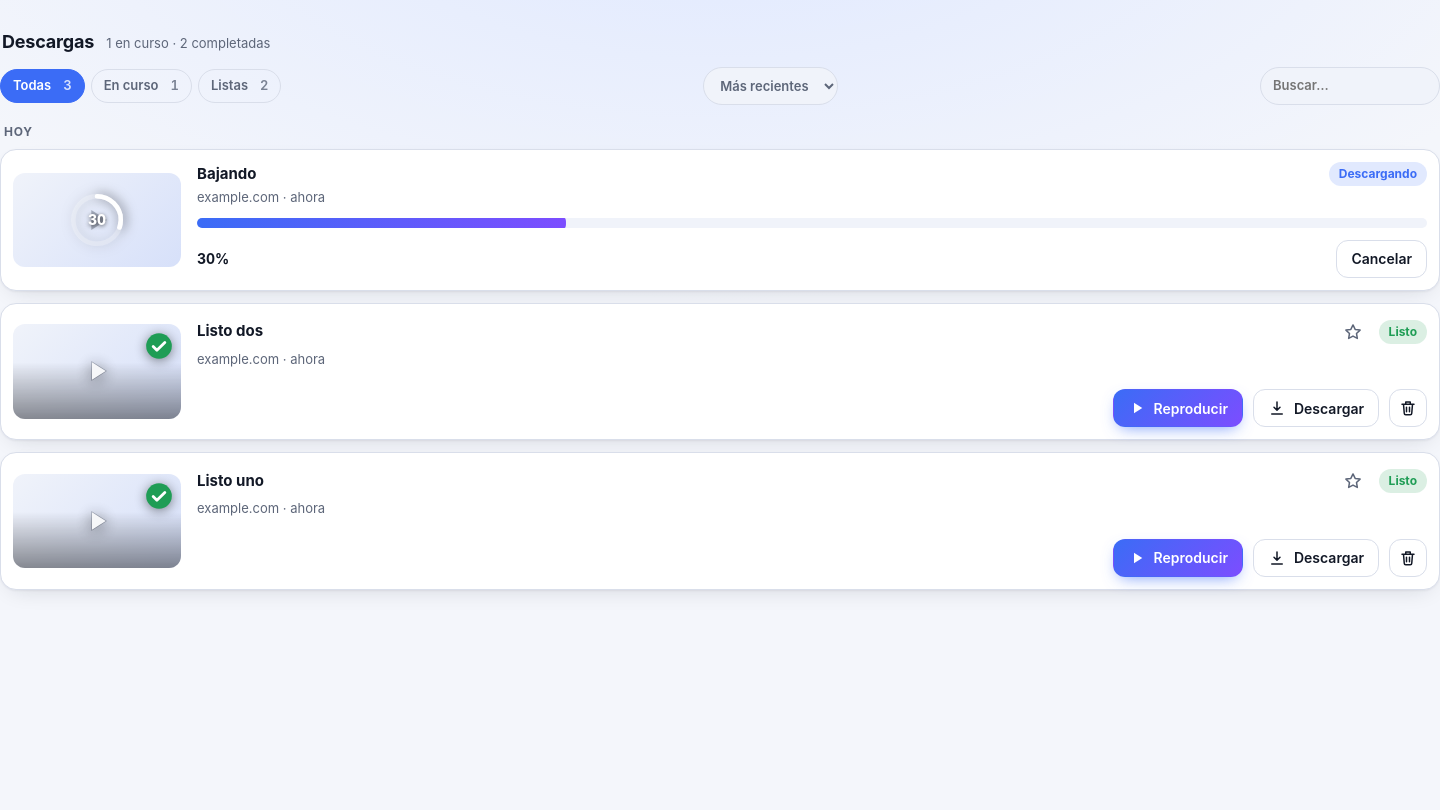
Test: JobList: carrusel de terminados por día › en escritorio, Reproducir sigue abriendo la vista previa en la tarjeta
This screenshot has width=1440, height=810.
Step 1. Click the 1st button "Reproducir" → (1178,408), box [1112,389,1243,427]
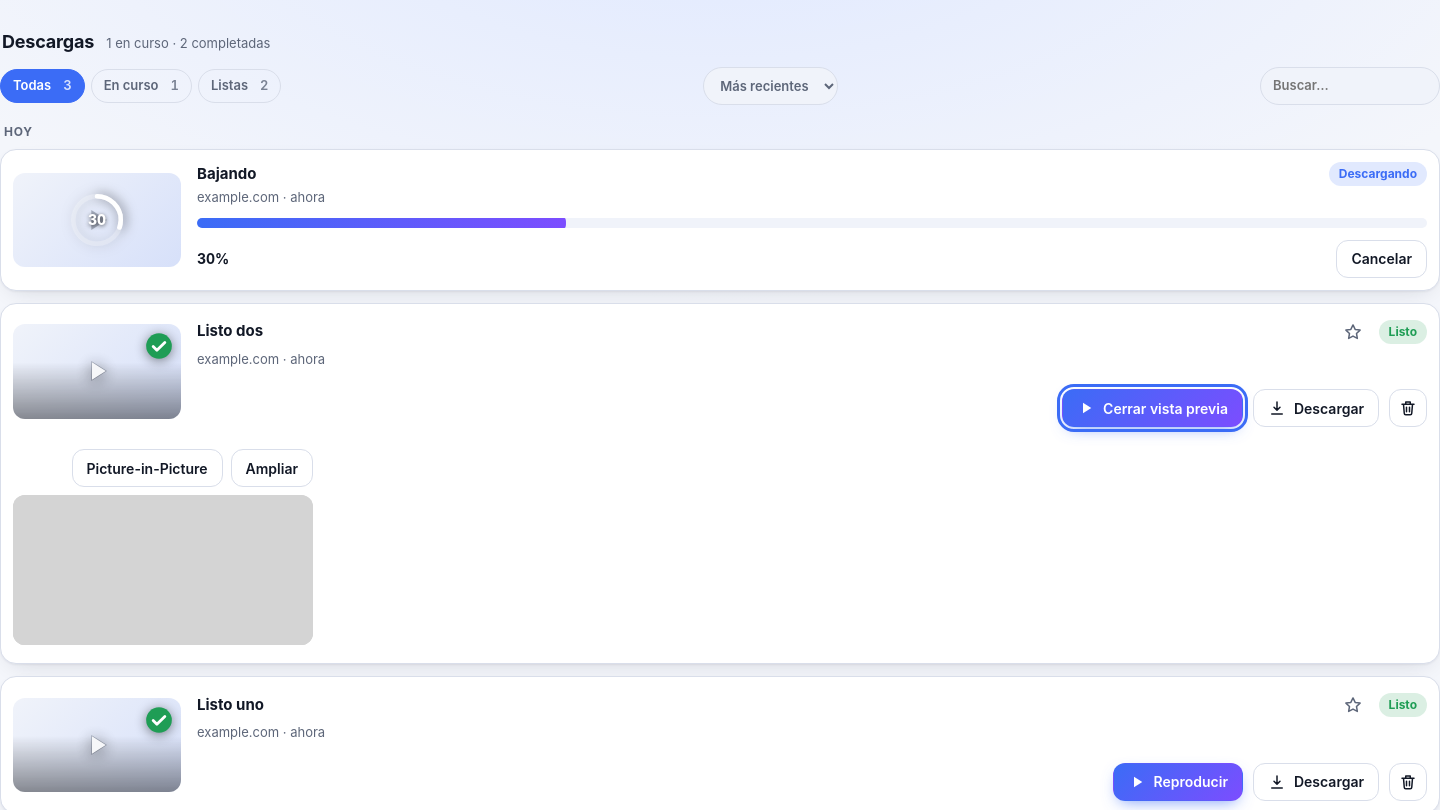
Expected: the button "Cerrar vista previa" is shown, [1062,389,1243,427]
